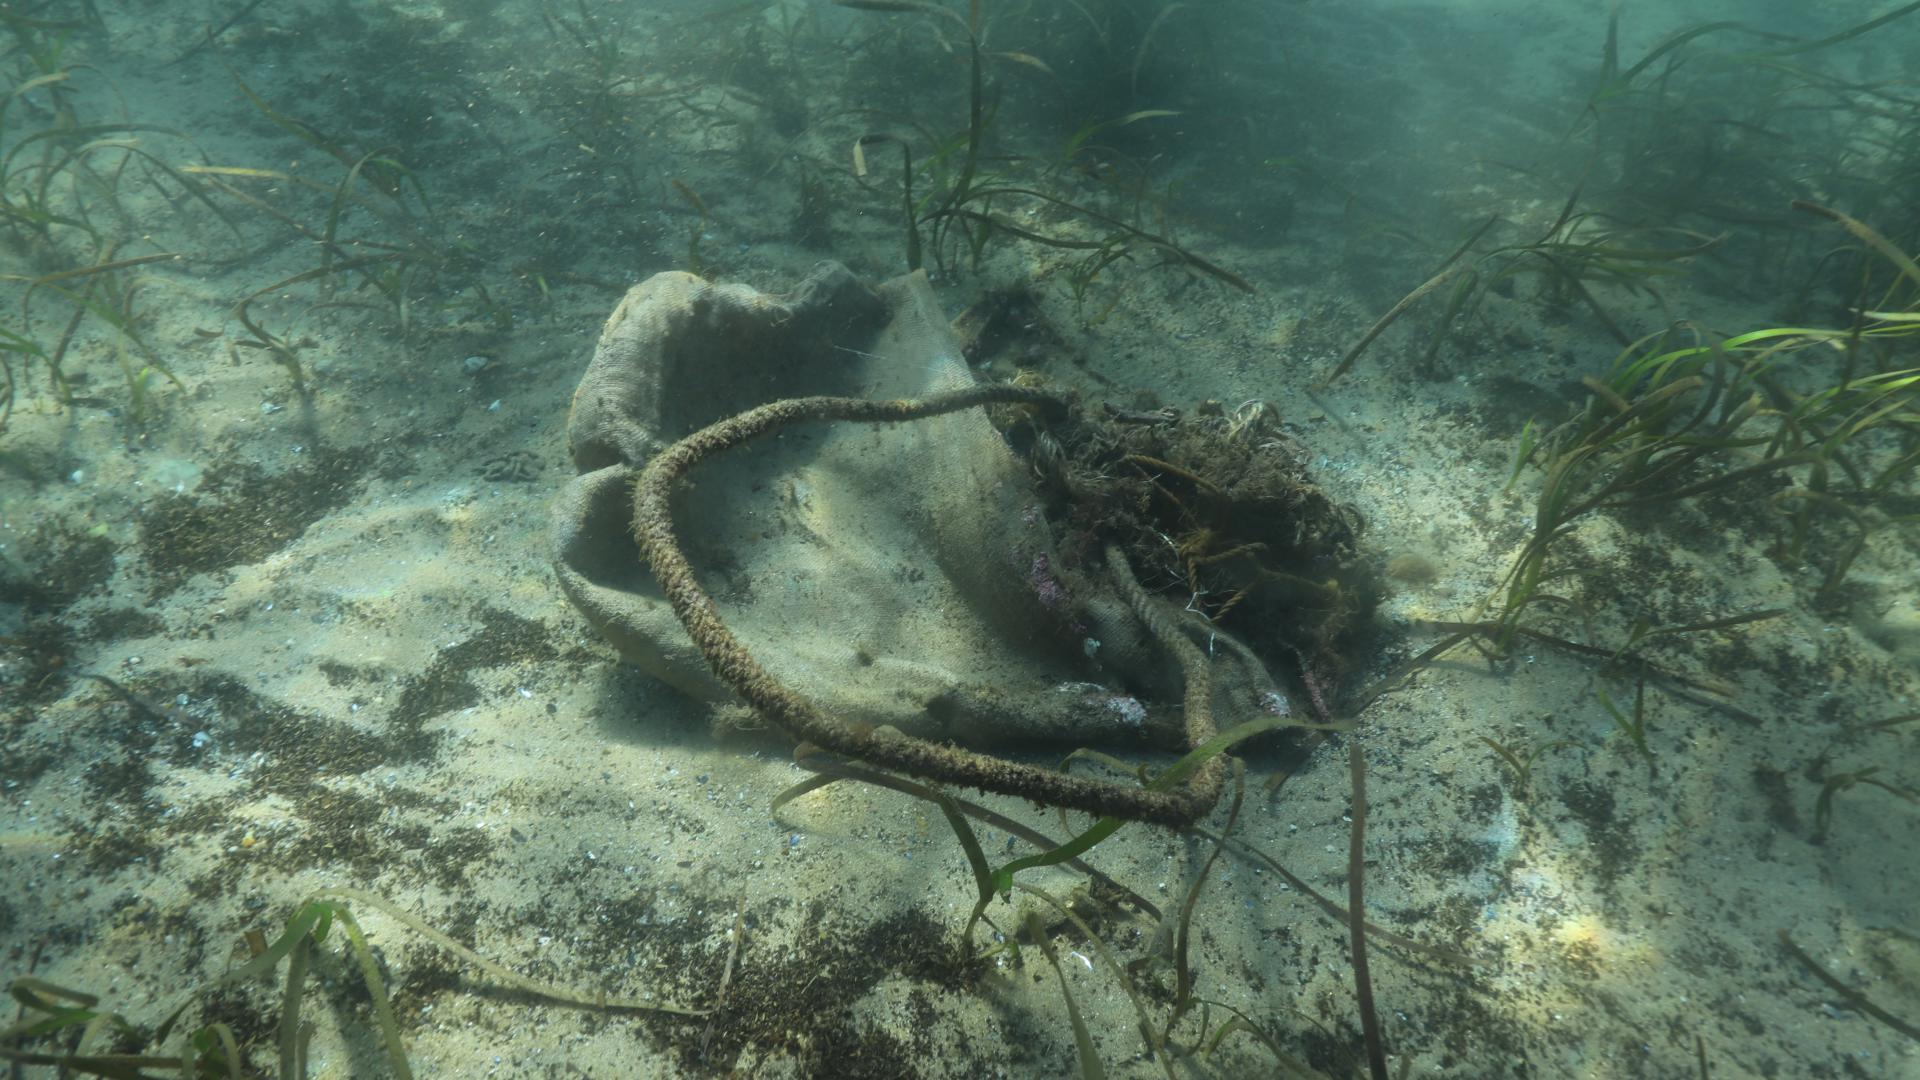rope: (630, 381, 1226, 825)
